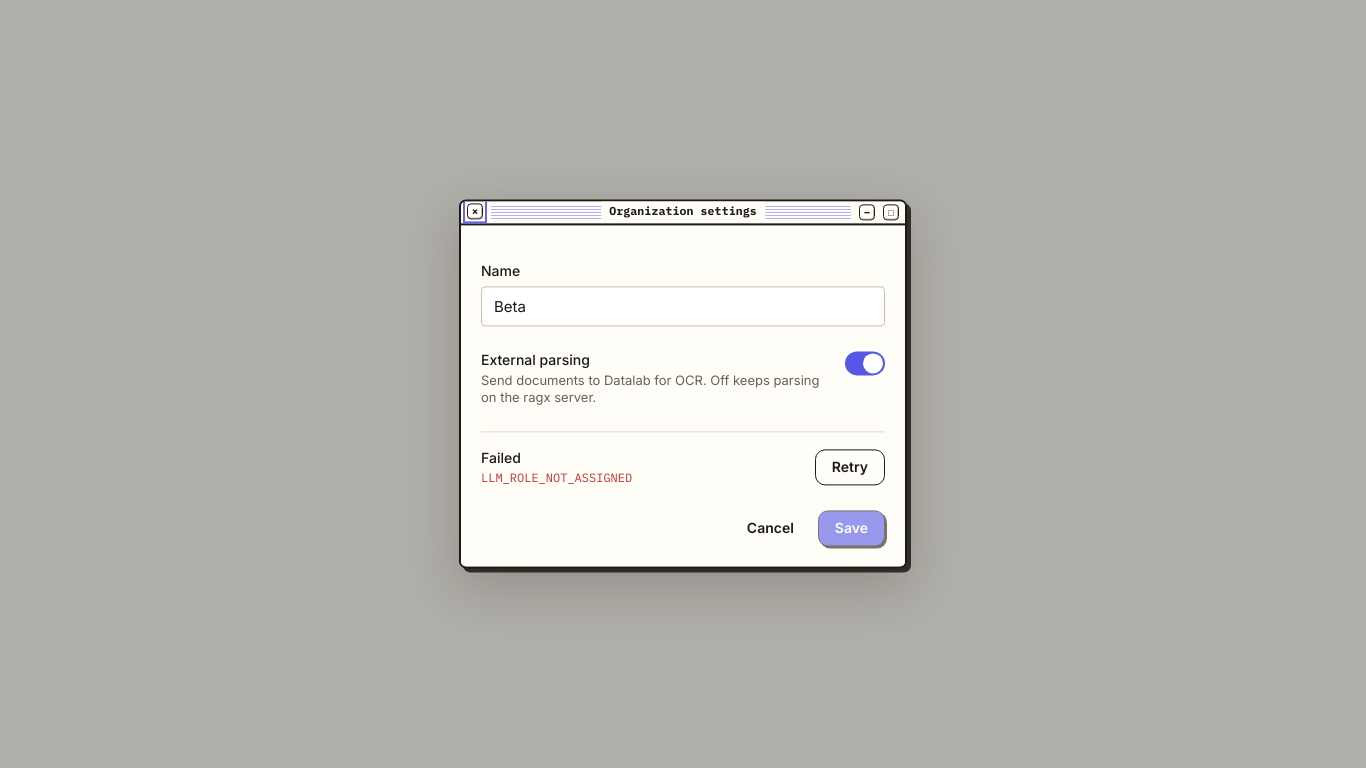
OrgDialog settings › toasts a successful retry
This screenshot has width=1366, height=768.
What coordinates should you click on to do the following:
click the button "Retry"
I would click on:
 (850, 468)
Its box is [815,450,885,486].
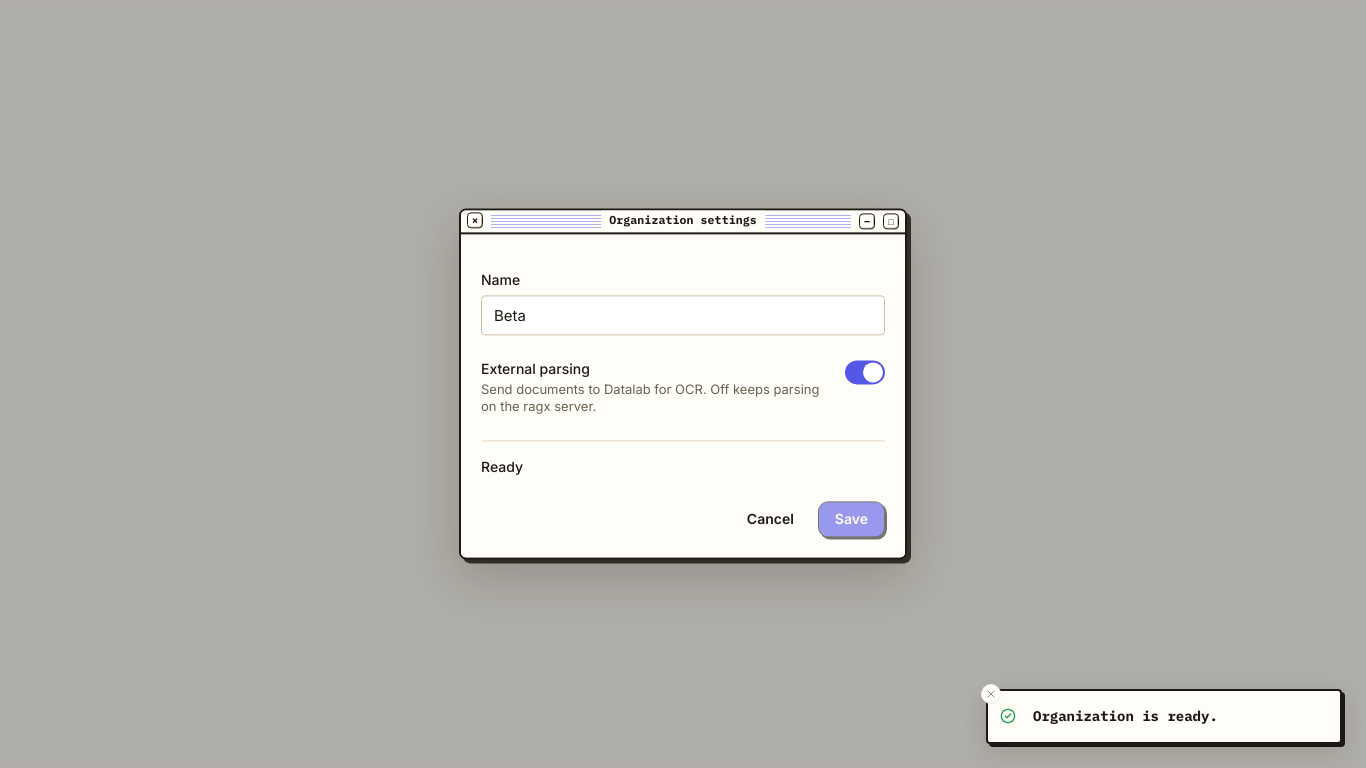
Now the text "Organization is ready." is shown, box [1033,707,1218,726]
